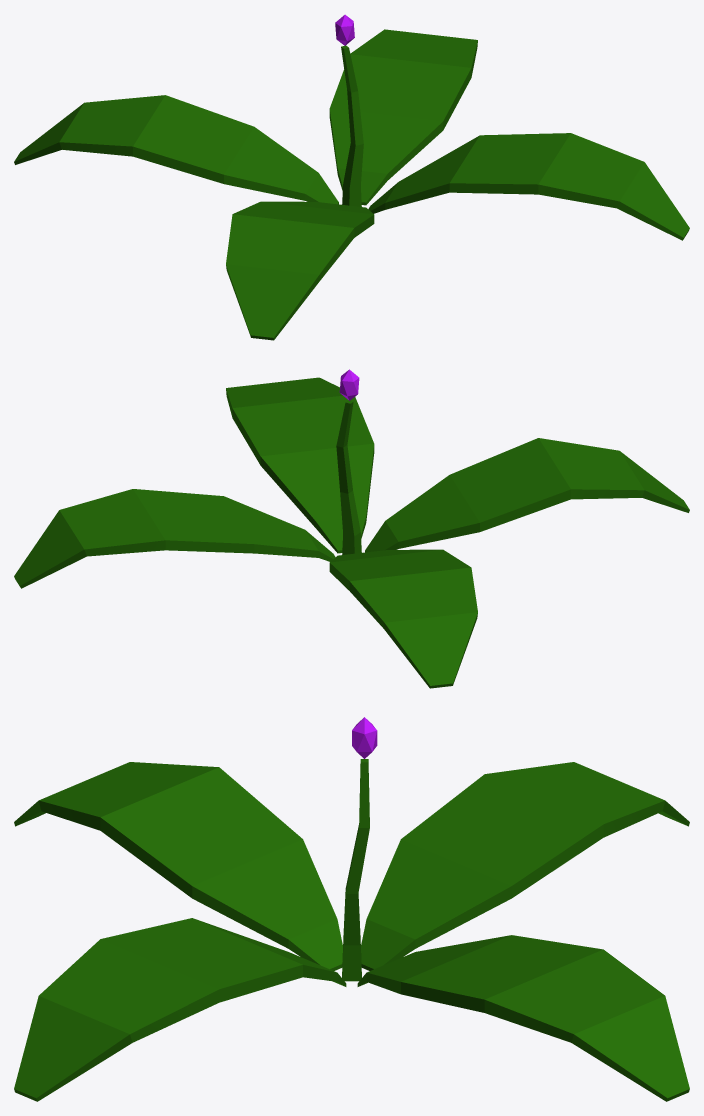
Rendered from plant2.obj.
3 renders of one model, top to bottom at view 1: azimuth 30°, elevation 25°; view 2: azimuth 150°, elevation 25°; view 3: azimuth 270°, elevation 25°, orthographic. The views are drawn at different scales.
Parts seen in each view (by area): view 1: Plant_2_Cube.008; view 2: Plant_2_Cube.008; view 3: Plant_2_Cube.008.
Boxes of the visible parts, x1,y1,x2,y2 form: Plant_2_Cube.008: (14,14,689,340); Plant_2_Cube.008: (14,369,689,688); Plant_2_Cube.008: (14,717,689,1101).
Size of the model in its own units: 1.37 by 0.5775 by 1.37.
